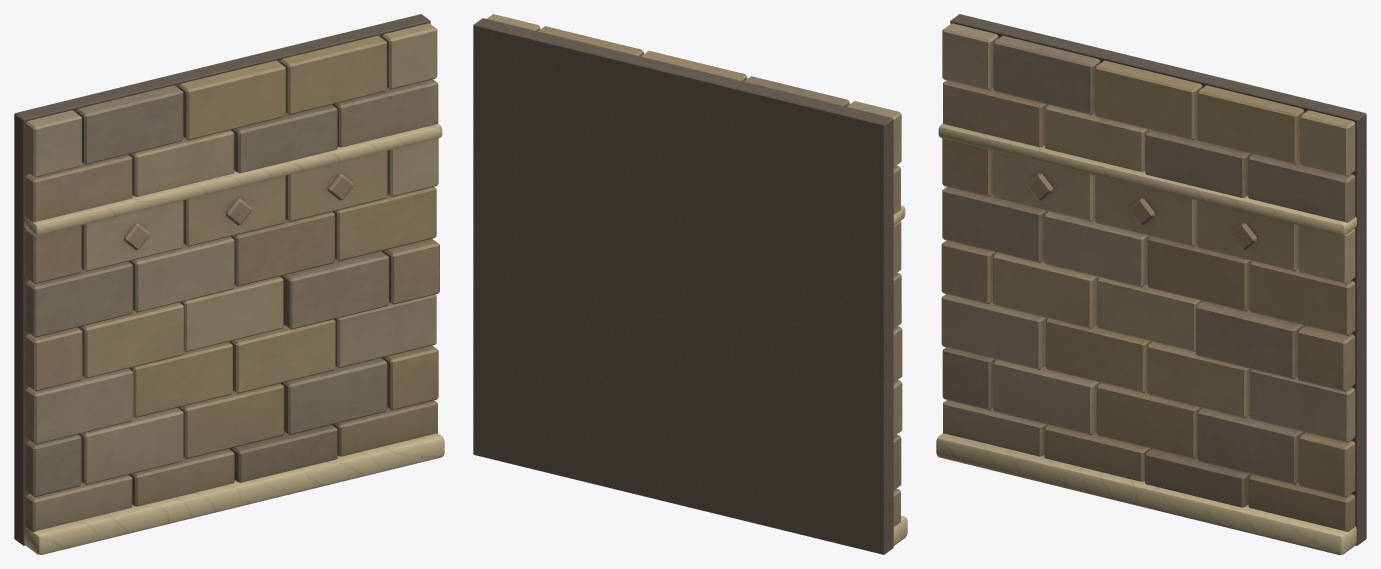
File: wall_panel.glb
3 renders of one model, left to right at view 1: azimuth 30°, elevation 25°; view 2: azimuth 150°, elevation 25°; view 3: azimuth 330°, elevation 25°, orthographic.
Parts seen in each view (by area): view 1: wall_panel; view 2: wall_panel; view 3: wall_panel.
Boxes of the visible parts, x1,y1,x2,y2 form: wall_panel: (14,14,444,554); wall_panel: (473,14,907,554); wall_panel: (936,14,1366,554).
Size of the model in its own units: 4 by 4 by 0.42.
Materials: 1 (1 with a texture image).
